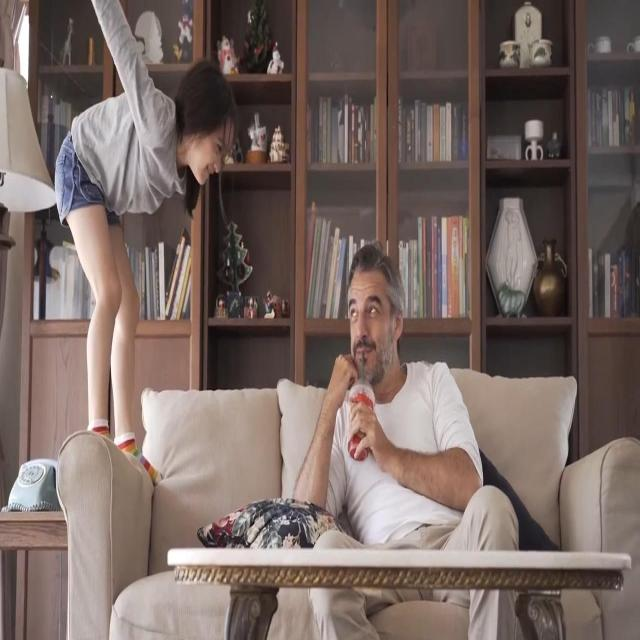no-helmet: (348, 276, 393, 384), (192, 117, 235, 187)
